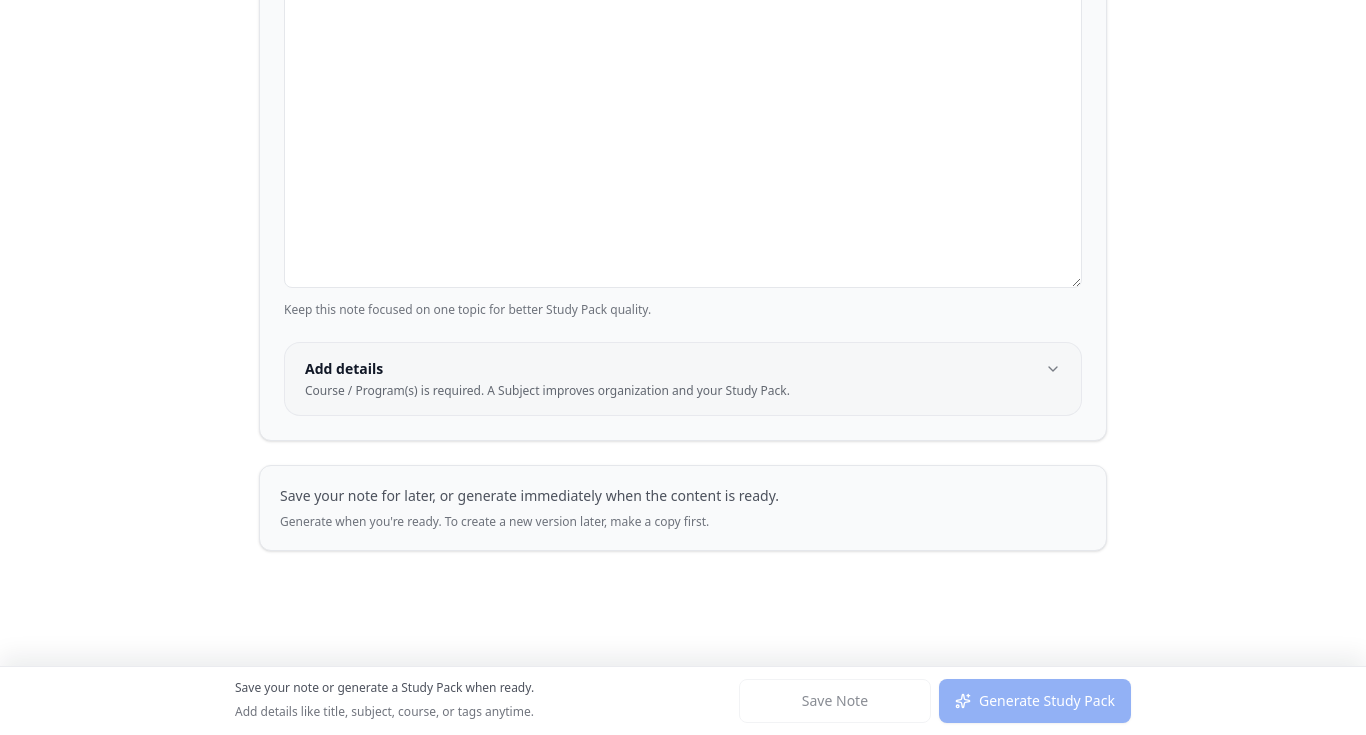
NoteEditorPageClient › defaults create-note authored depth from the user profile
The image size is (1366, 735).
(page scrolled)
Click the button "Add details".
click(683, 379)  # box left=285, top=343, right=1081, bottom=415
(page scrolled)
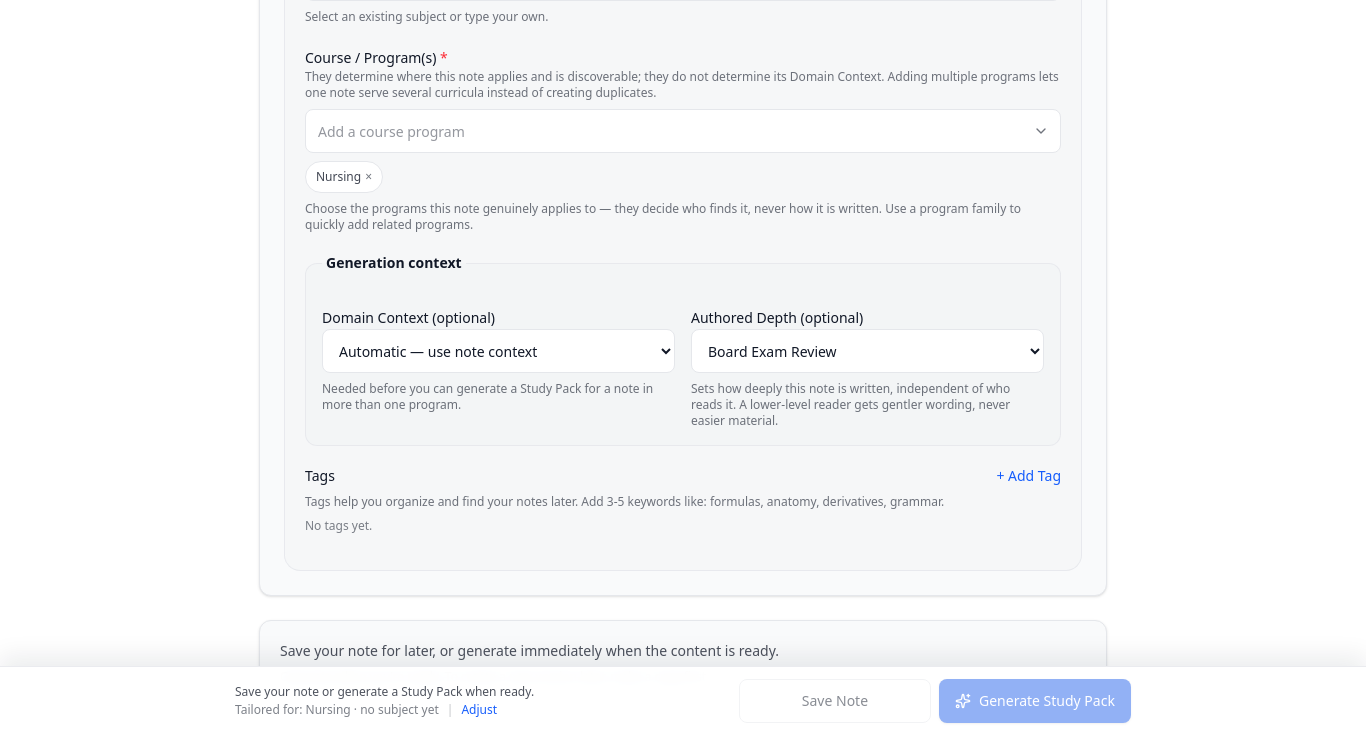
Now the dropdown labelled "Authored Depth (optional)" shows "Board Exam Review", box left=691, top=329, right=1044, bottom=373
